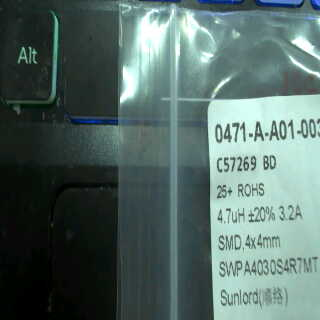4.7uH: (216, 204, 247, 225)
